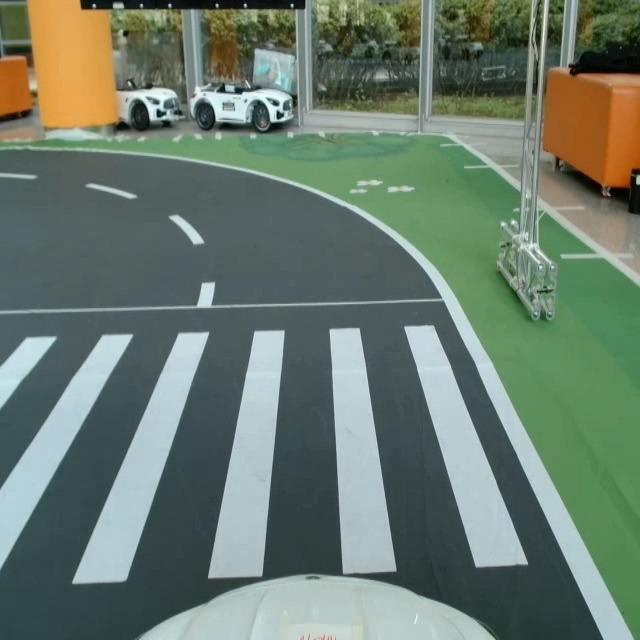traffic-light: (76, 0, 311, 13)
